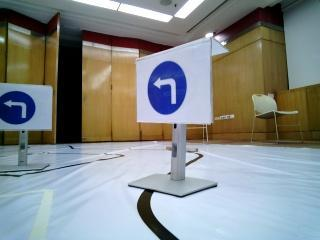left: (139, 62, 205, 125), (3, 84, 46, 124)
